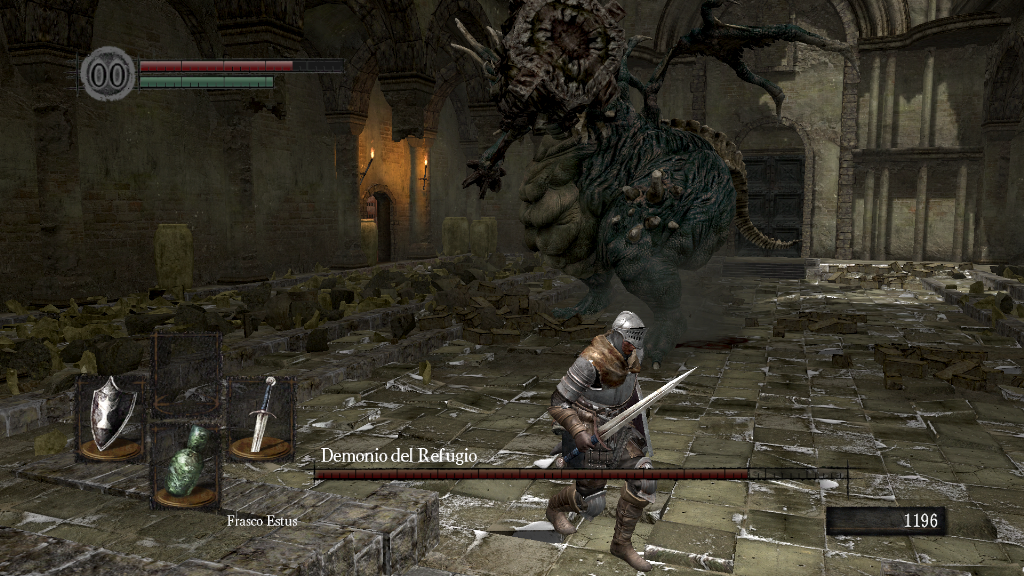asylumDemon: (449, 5, 853, 371)
bossHP: (314, 469, 847, 479)
health: (138, 58, 343, 71)
humanity: (80, 45, 136, 102)
player: (546, 310, 698, 573)
souls: (825, 506, 945, 536)
stamina: (138, 74, 274, 88)
